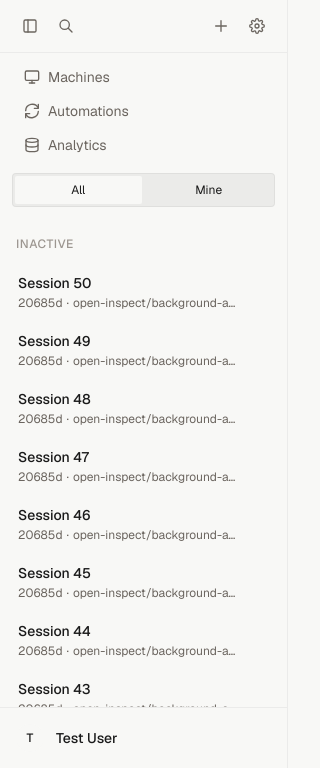
it: SessionSidebar › ignores stale load-more results after the creator filter changes
(page scrolled)
Click the radio button "Mine" at (209, 190), box [146,176,272,204]
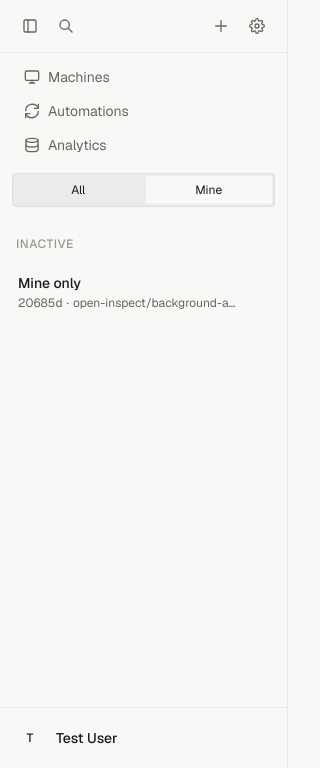
Now the text "Mine only" is shown, box [18,273,81,293]
